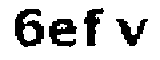6: (9, 4, 46, 53)
e: (48, 17, 78, 50)
f: (80, 3, 108, 50)
v: (112, 14, 156, 55)
